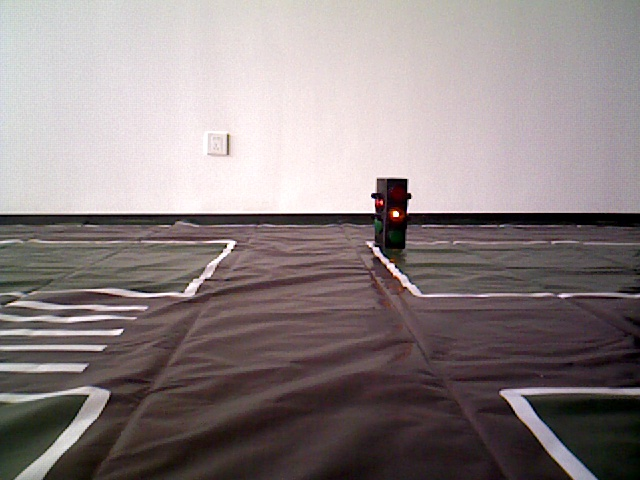yellow: (374, 178, 411, 245)
